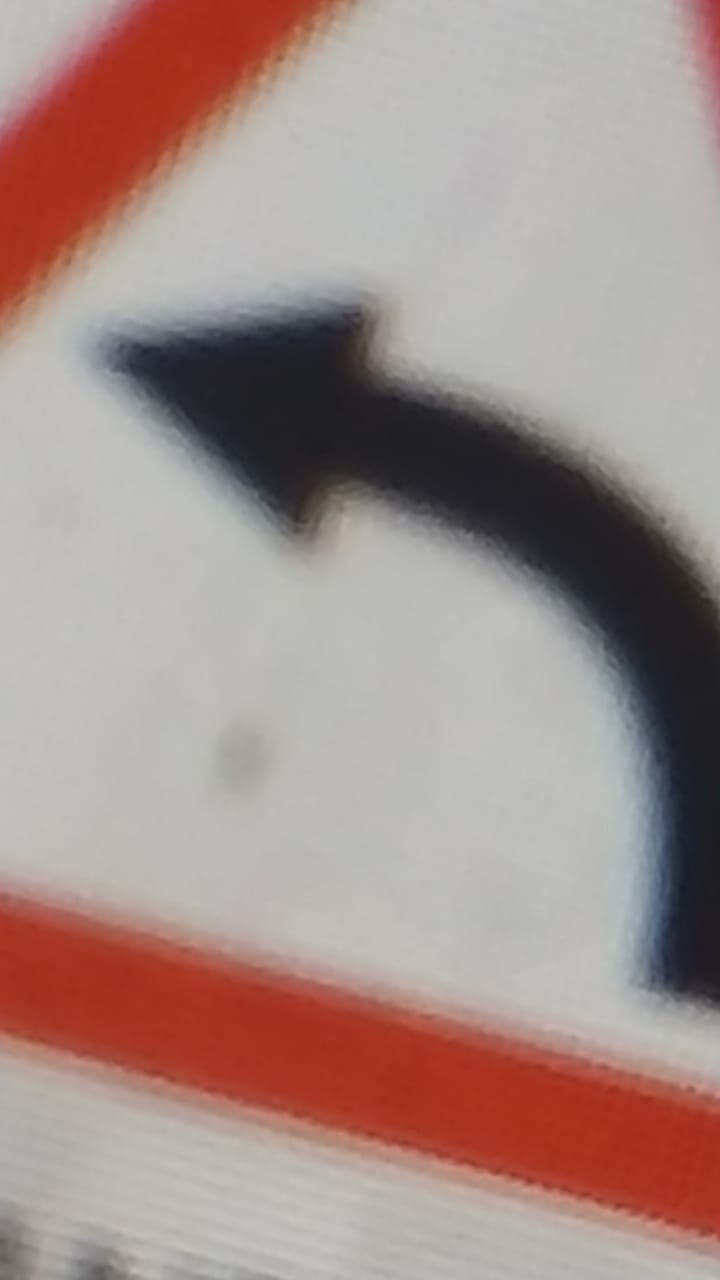RIGHT CURVE: (2, 6, 720, 1260)
